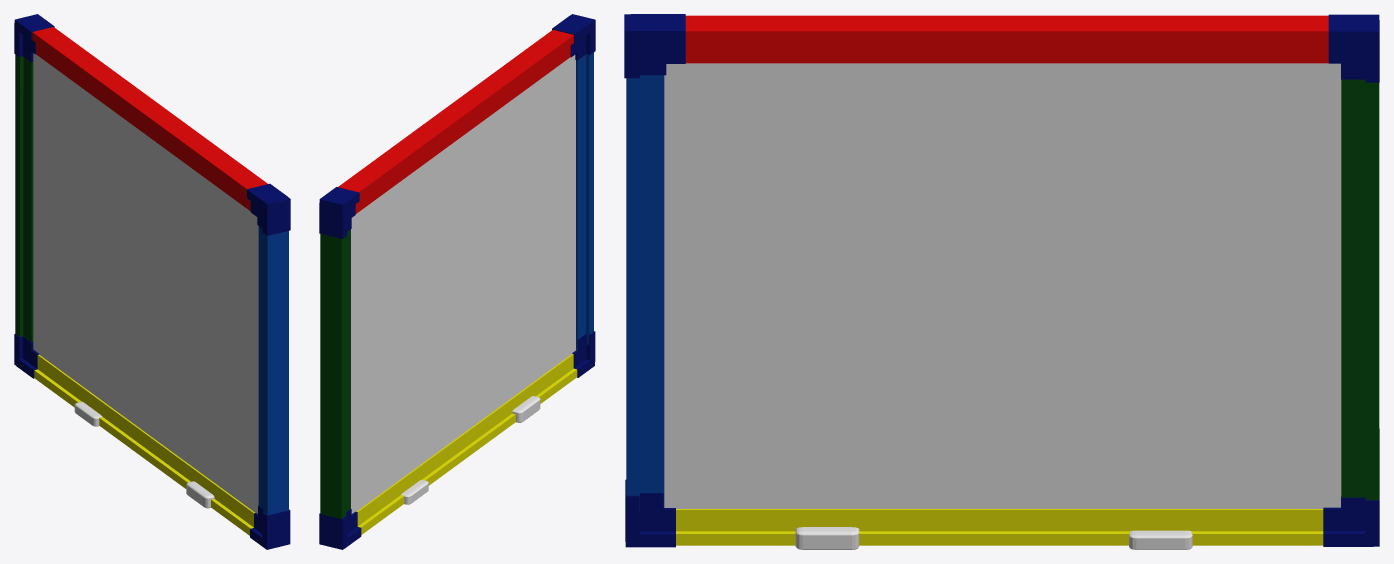
Rendered from magnetboardER.fbx.
The picture shows the model from 3 angles, left to right: view 1: azimuth 30°, elevation 25°; view 2: azimuth 150°, elevation 25°; view 3: azimuth 270°, elevation 25°; orthographic projection. The views are drawn at different scales.
Visible parts, largest first — view 1: Cube, Cube.001, Cube.002, Cube.008, Cube.005, Cube.004, Cube.007, Cube.003, Cube.006, Cube.009, Cube.010; view 2: Cube, Cube.001, Cube.005, Cube.008, Cube.002, Cube.003, Cube.006, Cube.004, Cube.007, Cube.009, Cube.010; view 3: Cube, Cube.001, Cube.008, Cube.002, Cube.005, Cube.004, Cube.003, Cube.006, Cube.007, Cube.009, Cube.010.
Part boxes in pixels (left/top/right/bottom): Cube: left=33, top=53, right=258, bottom=513; Cube.001: left=32, top=27, right=267, bottom=210; Cube.002: left=258, top=226, right=288, bottom=515; Cube.008: left=34, top=354, right=254, bottom=535; Cube.005: left=15, top=54, right=33, bottom=341; Cube.004: left=247, top=183, right=290, bottom=235; Cube.007: left=250, top=505, right=290, bottom=549; Cube.003: left=14, top=14, right=54, bottom=61; Cube.006: left=14, top=334, right=39, bottom=378; Cube.009: left=186, top=481, right=214, bottom=508; Cube.010: left=74, top=401, right=102, bottom=426; Cube: left=351, top=55, right=575, bottom=513; Cube.001: left=338, top=30, right=573, bottom=213; Cube.005: left=320, top=229, right=350, bottom=518; Cube.008: left=356, top=354, right=577, bottom=534; Cube.002: left=576, top=52, right=593, bottom=349; Cube.003: left=319, top=187, right=359, bottom=238; Cube.006: left=319, top=509, right=361, bottom=549; Cube.004: left=552, top=14, right=595, bottom=60; Cube.007: left=572, top=331, right=595, bottom=377; Cube.009: left=512, top=396, right=540, bottom=422; Cube.010: left=401, top=479, right=428, bottom=504; Cube: left=664, top=63, right=1341, bottom=508; Cube.001: left=685, top=15, right=1328, bottom=63; Cube.008: left=676, top=509, right=1323, bottom=545; Cube.002: left=626, top=75, right=664, bottom=510; Cube.005: left=1341, top=79, right=1379, bottom=500; Cube.004: left=624, top=14, right=685, bottom=78; Cube.003: left=1328, top=14, right=1379, bottom=82; Cube.006: left=1323, top=496, right=1379, bottom=546; Cube.007: left=625, top=479, right=675, bottom=547; Cube.009: left=795, top=527, right=859, bottom=549; Cube.010: left=1129, top=530, right=1192, bottom=549.
Size of the model in its own units: 29.08 by 310 by 410.
